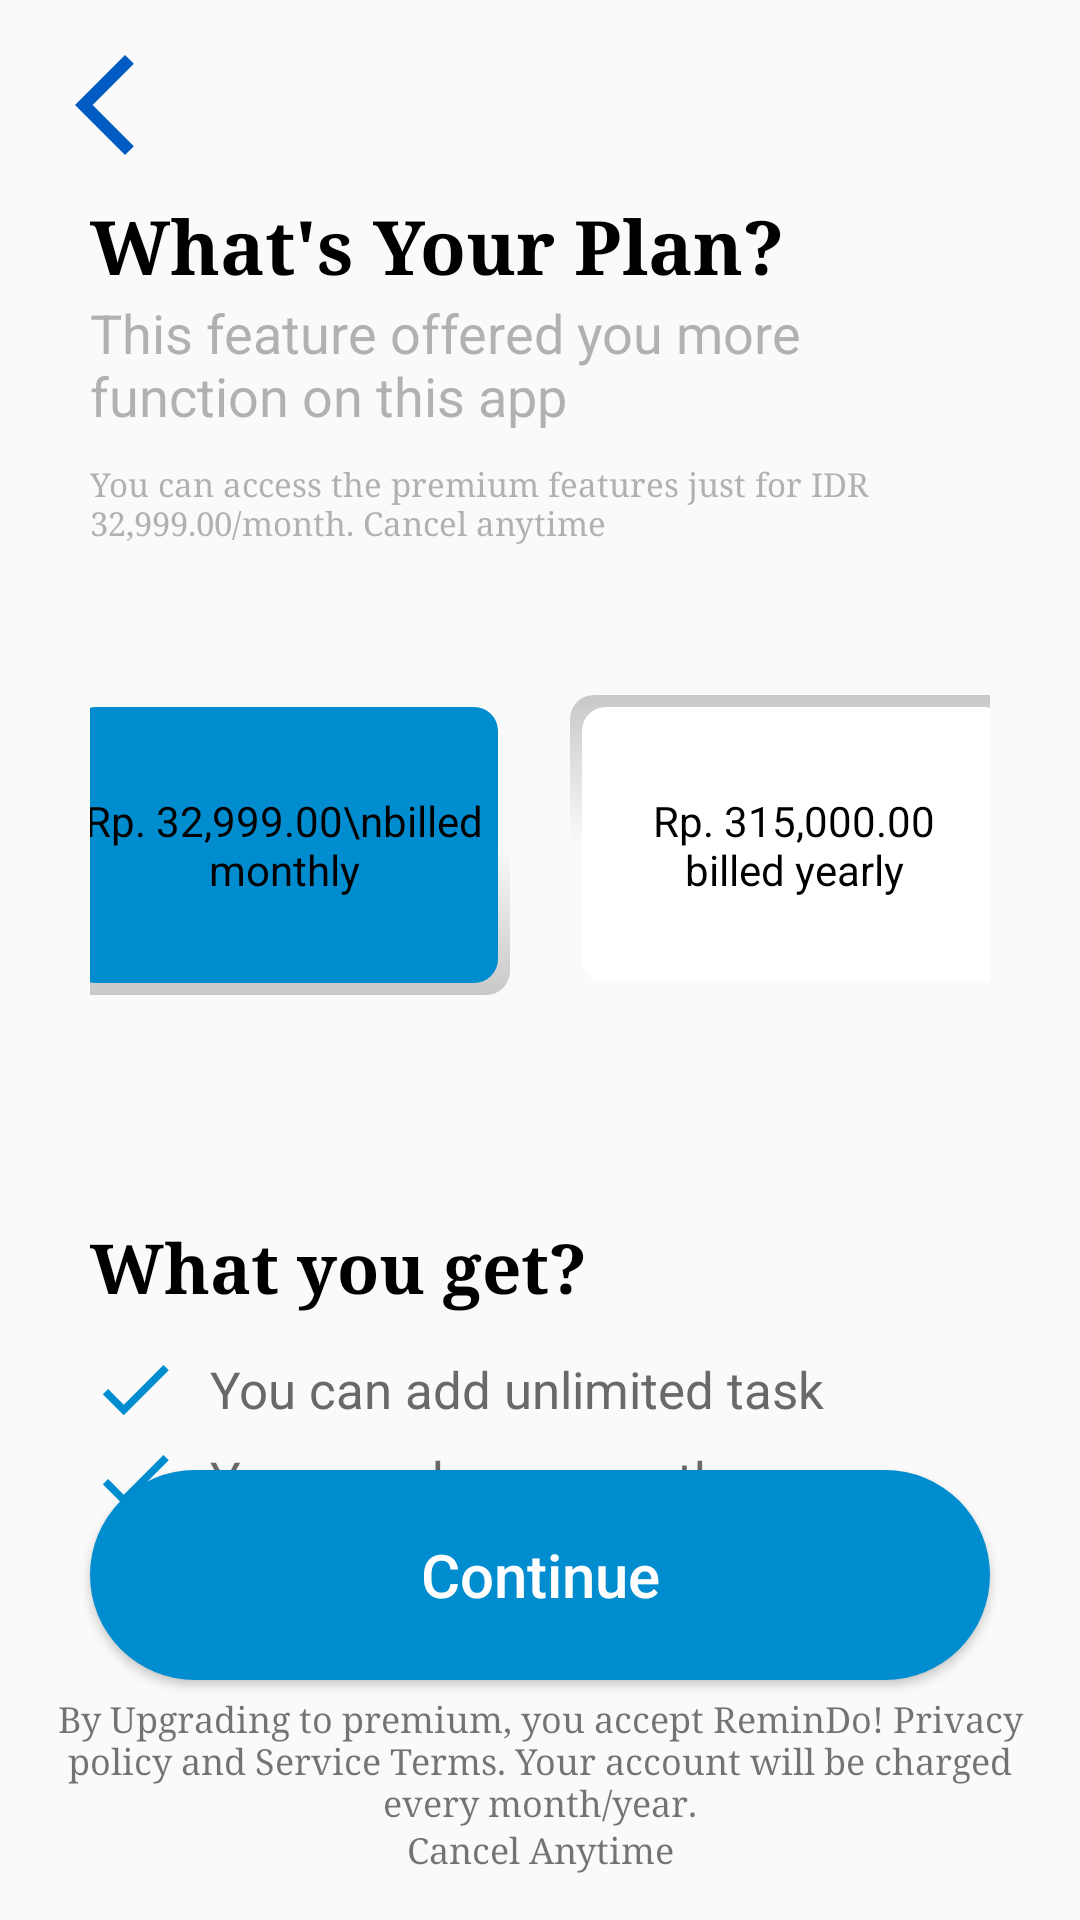

Named icons in this screenshot (1080px×1920px) and their bounding boxes, (x1, y1, x2, y2):
back: (75, 55, 134, 155)
